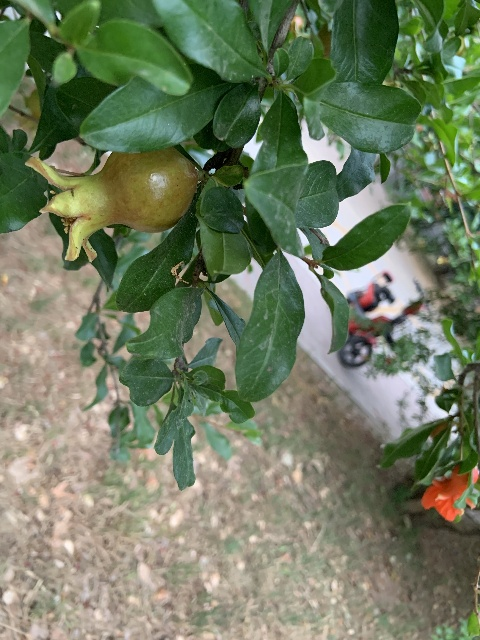early-fruit: (26, 146, 198, 263)
flower: (420, 462, 477, 522)
